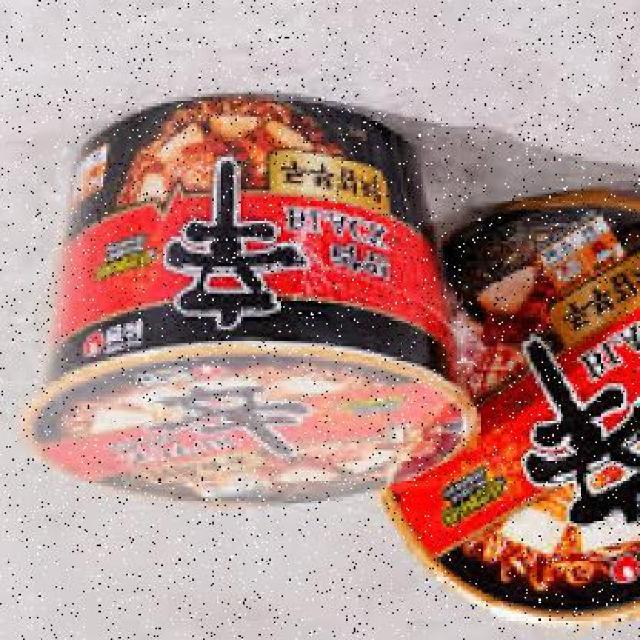Miscellaneous: (26, 94, 471, 500), (366, 183, 640, 634)
